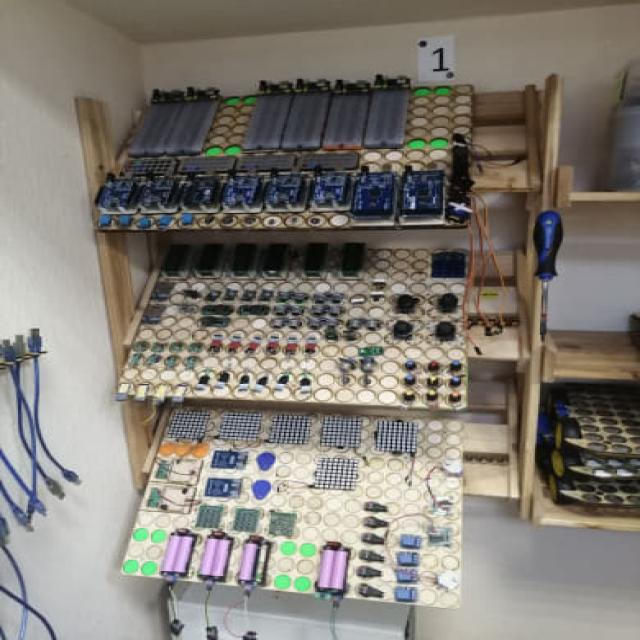Green-circles: (278, 536, 314, 560), (119, 558, 160, 579), (412, 81, 454, 100), (268, 574, 309, 592), (203, 141, 247, 157), (135, 526, 169, 546), (217, 92, 262, 107), (405, 136, 450, 150)
